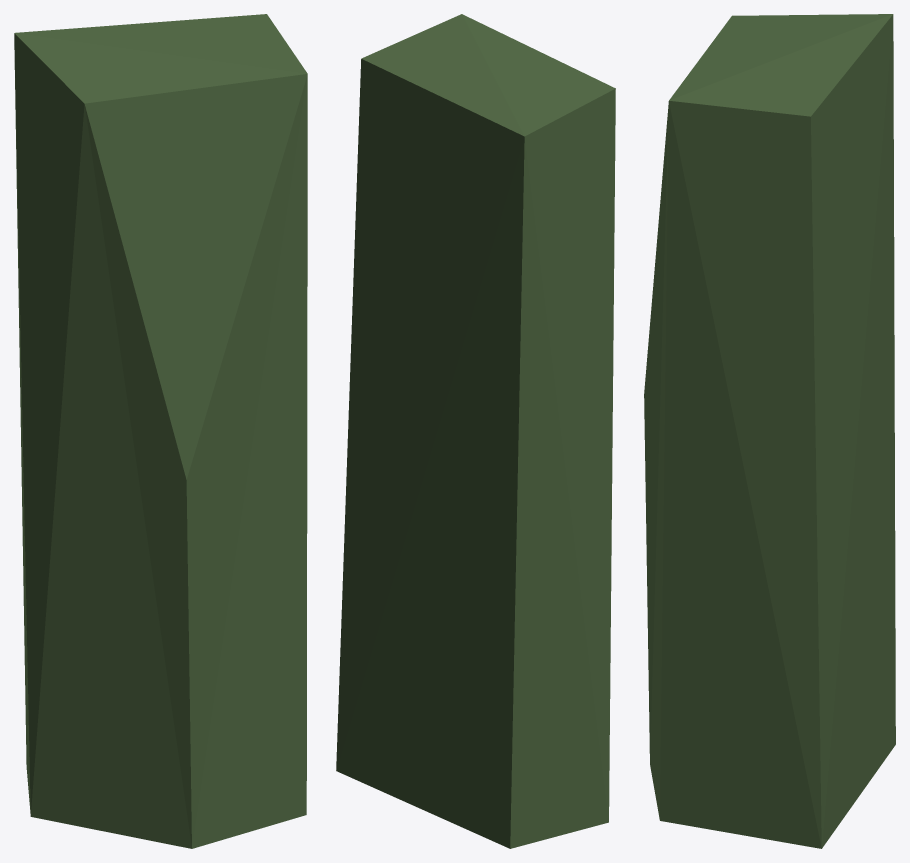
File: Grass.lod2.glb
3 renders of one model, left to right at view 1: azimuth 30°, elevation 25°; view 2: azimuth 150°, elevation 25°; view 3: azimuth 270°, elevation 25°, orthographic. The views are drawn at different scales.
Parts seen in each view (by area): view 1: Grass; view 2: Grass; view 3: Grass.
Boxes of the visible parts, bbox=[...] form: Grass: bbox=[14, 14, 307, 848]; Grass: bbox=[336, 14, 615, 848]; Grass: bbox=[644, 14, 895, 848].
Size of the model in its own units: 0.3817 by 1.01 by 0.3185.
